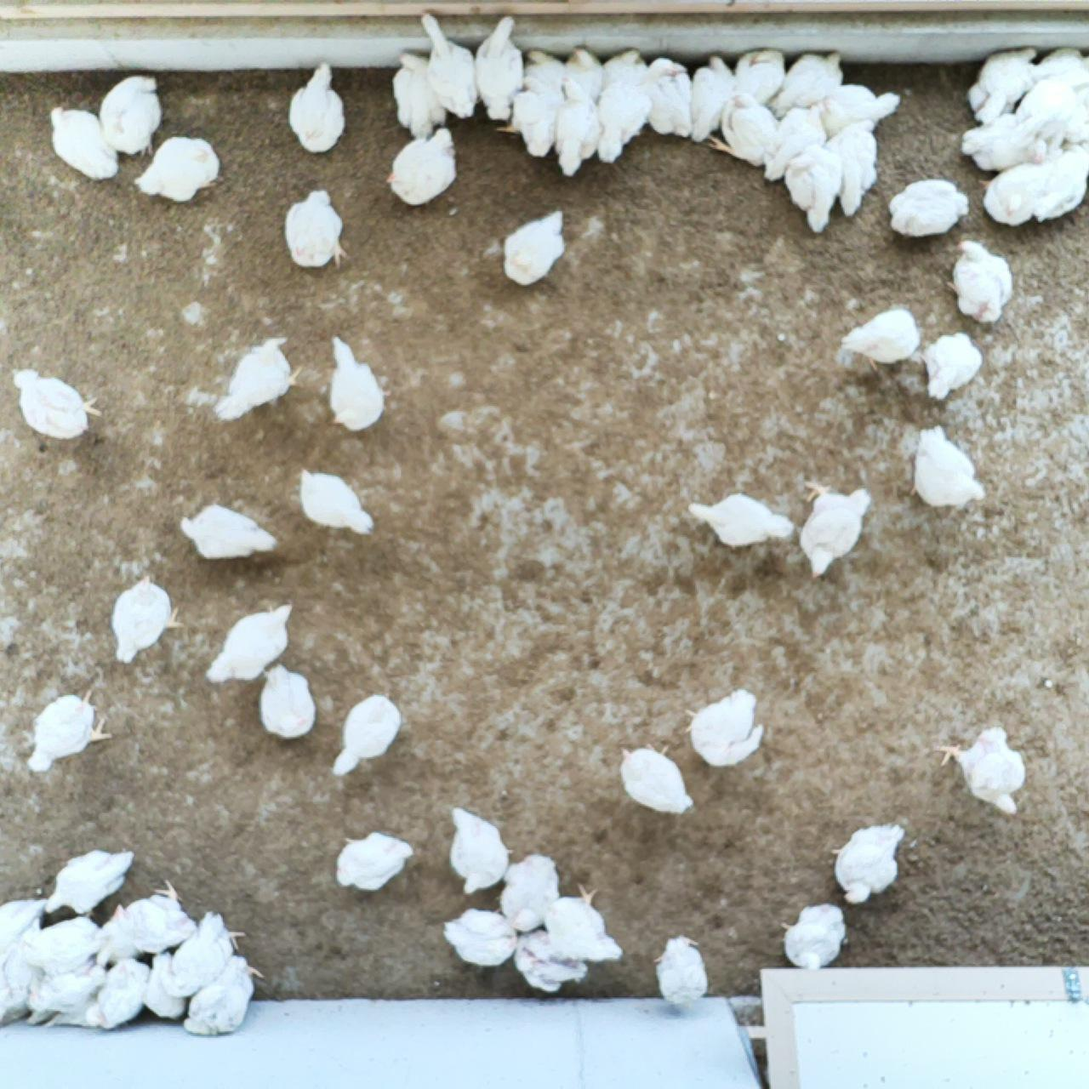chicken: (931, 721, 1031, 821), (211, 332, 309, 432), (22, 683, 116, 781), (795, 471, 874, 582), (100, 876, 200, 963), (204, 600, 296, 693), (8, 359, 105, 445), (161, 903, 249, 995), (416, 9, 485, 123), (179, 949, 265, 1040), (904, 422, 989, 514), (324, 329, 396, 436), (106, 568, 185, 665), (41, 99, 125, 188), (687, 486, 795, 555), (681, 683, 767, 768), (94, 66, 167, 165), (943, 234, 1019, 329), (43, 844, 138, 920), (828, 818, 910, 906), (174, 496, 279, 564), (330, 688, 407, 779), (701, 89, 784, 173), (282, 60, 353, 157), (131, 135, 224, 209), (615, 740, 700, 820), (838, 300, 923, 378), (493, 73, 563, 167), (963, 43, 1042, 126), (445, 802, 514, 897), (382, 125, 457, 211), (823, 117, 883, 221), (759, 100, 829, 189), (970, 155, 1051, 231), (472, 12, 527, 123), (588, 79, 655, 170), (297, 463, 376, 538), (783, 140, 844, 237), (22, 955, 105, 1026), (879, 176, 971, 240), (771, 46, 849, 121), (500, 204, 570, 287), (957, 109, 1049, 172), (284, 187, 353, 271), (388, 48, 449, 143), (496, 850, 563, 936), (332, 828, 418, 895), (808, 81, 902, 142), (549, 73, 603, 178), (440, 903, 520, 972), (773, 900, 851, 970), (512, 927, 591, 995), (87, 954, 154, 1034), (256, 659, 319, 742), (918, 329, 984, 408), (641, 53, 700, 141), (688, 53, 742, 145), (27, 911, 107, 973), (651, 930, 715, 1004), (1029, 150, 1089, 225), (136, 949, 189, 1030), (1015, 76, 1075, 136), (0, 940, 41, 1027), (0, 897, 45, 971), (732, 45, 787, 105), (563, 43, 608, 107), (520, 45, 569, 103), (1023, 43, 1089, 85), (48, 994, 113, 1036), (599, 49, 653, 97), (1064, 87, 1089, 142)
